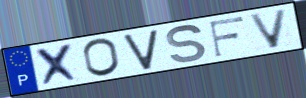F: (208, 15, 246, 59)
O: (81, 37, 122, 78)
S: (165, 23, 209, 64)
V: (246, 7, 290, 50), (122, 27, 160, 72)
X: (33, 41, 83, 87)
